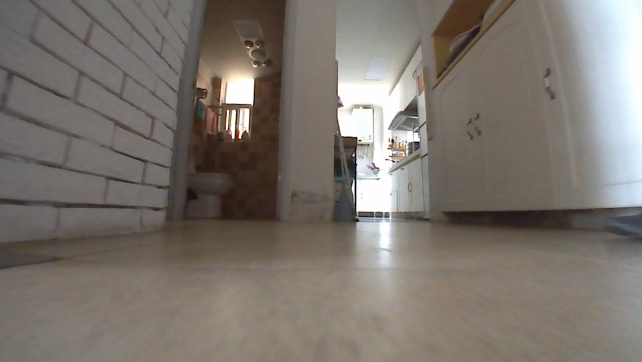cupboard: (386, 145, 425, 220)
toilet: (183, 155, 236, 220)
